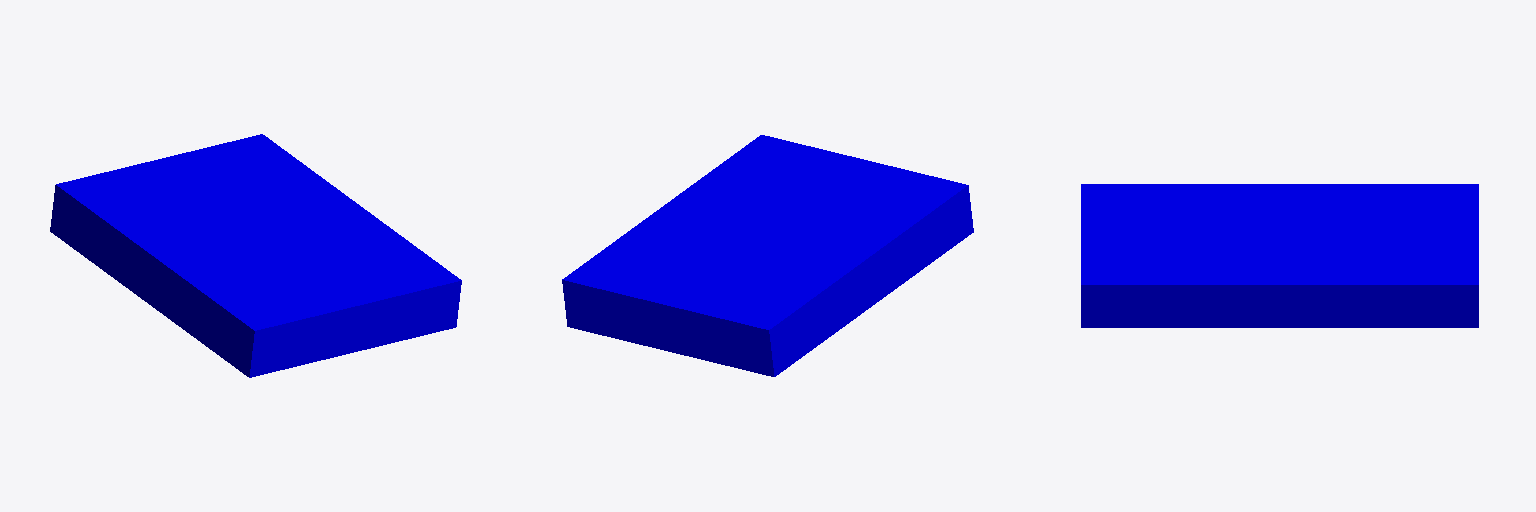
Rendered from planes_1-dynamic - BLK2GO-3630355-Scan 080 19.obj.
3 renders of one model, left to right at view 1: azimuth 30°, elevation 25°; view 2: azimuth 150°, elevation 25°; view 3: azimuth 270°, elevation 25°, orthographic.
Visible parts, largest first — view 1: 1-dynamic_-_BLK2GO-[number redacted]-Scan_080_19_0; view 2: 1-dynamic_-_BLK2GO-[number redacted]-Scan_080_19_0; view 3: 1-dynamic_-_BLK2GO-[number redacted]-Scan_080_19_0.
Part boxes in pixels (x1,y1,x2,y2): 1-dynamic_-_BLK2GO-[number redacted]-Scan_080_19_0: (50, 134, 461, 377); 1-dynamic_-_BLK2GO-[number redacted]-Scan_080_19_0: (562, 135, 973, 376); 1-dynamic_-_BLK2GO-[number redacted]-Scan_080_19_0: (1081, 184, 1478, 327).
Bounding box in the file's own units: 1.04 × 0.216 × 1.68.